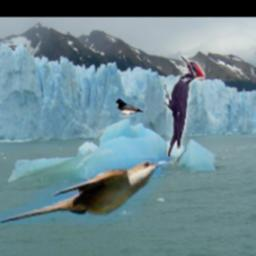Cuckoo: (0, 159, 168, 226)
Swallow: (115, 98, 143, 117)
Woodpecker: (165, 55, 205, 156)
